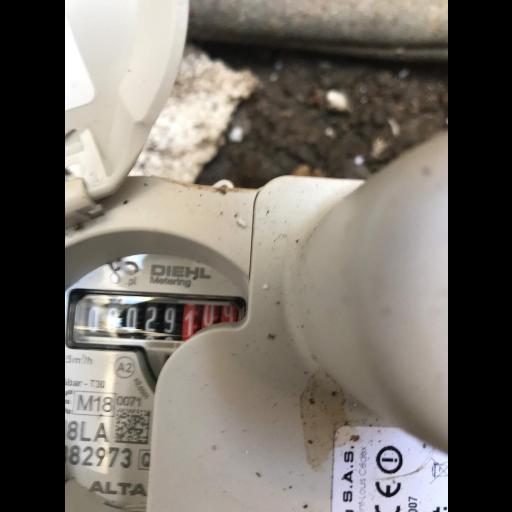0: (83, 298, 105, 337), (103, 298, 124, 338), (121, 299, 142, 339), (198, 301, 220, 331)
1: (179, 303, 200, 342)
2: (140, 301, 160, 340)
9: (158, 302, 180, 341), (220, 301, 239, 323)
border_water_meter_number: (64, 288, 246, 357)
